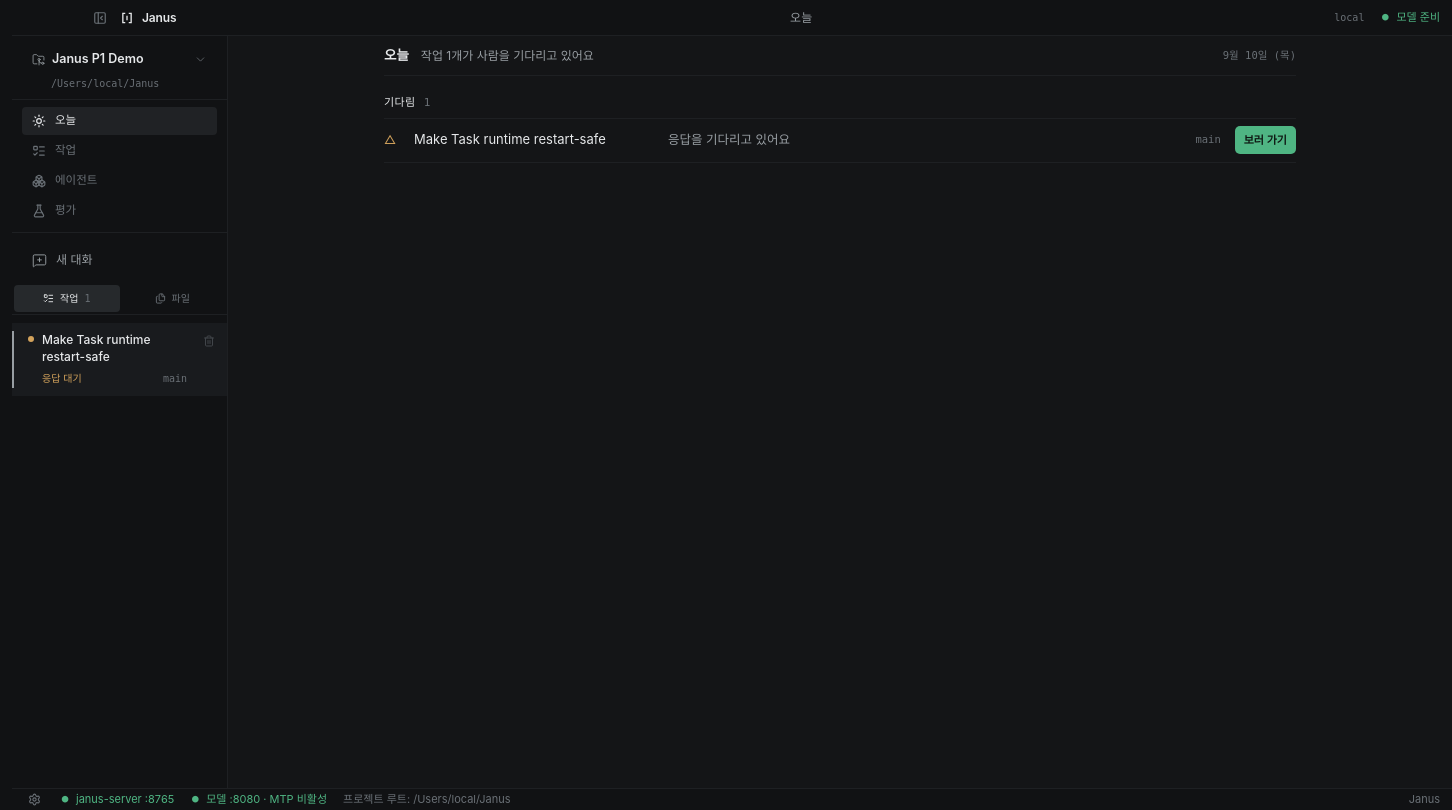
it: Janus renderer fixture › boots on the 오늘 home and reads task state as a sentence
This screenshot has width=1452, height=810.
Expected: the heading "오늘" is shown, [384,45,409,66]
Expected: the text "응답을 기다리고 있어요" is shown, [668,132,790,147]
Click the button "보러 가기".
click(1265, 140)  # box [1235,126,1296,154]
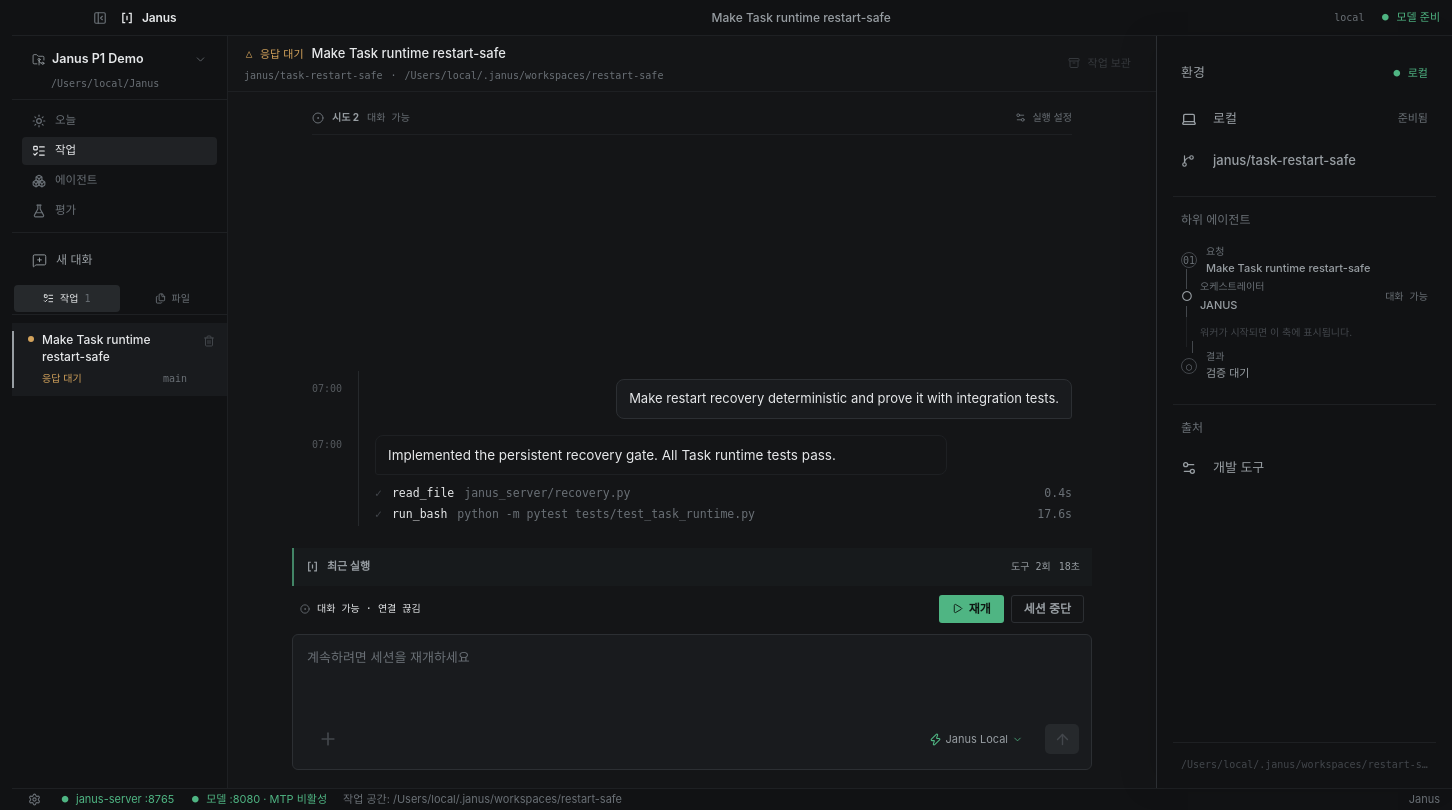
Now the text box named "작업 지시" is shown, box [293,635,1091,715]
